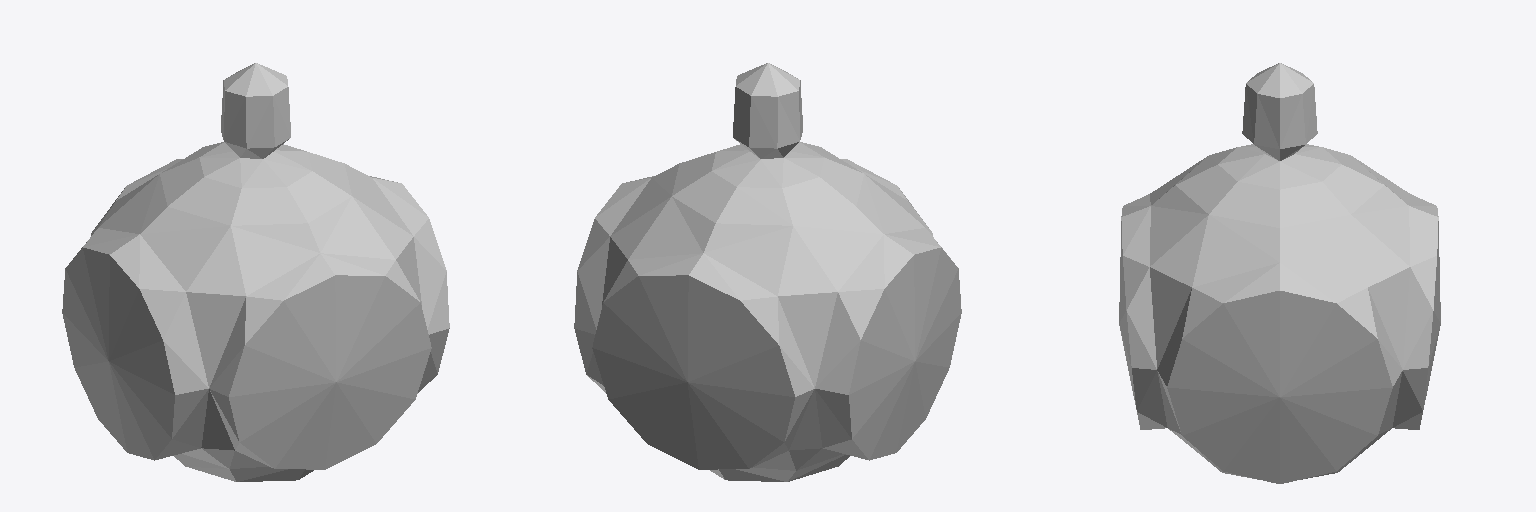
Rendered from Clock_mesh.obj.
3 views of the same model, side by side, from view 1: azimuth 30°, elevation 25°; view 2: azimuth 150°, elevation 25°; view 3: azimuth 270°, elevation 25° (orthographic).
Visible parts, largest first — view 1: Mesh_0221; view 2: Mesh_0221; view 3: Mesh_0221.
Part boxes in pixels (x1,y1,x2,y2): Mesh_0221: (62, 63, 449, 481); Mesh_0221: (574, 63, 961, 481); Mesh_0221: (1119, 63, 1440, 483).
Bounding box in the file's own units: 40.53 × 50.86 × 38.37.